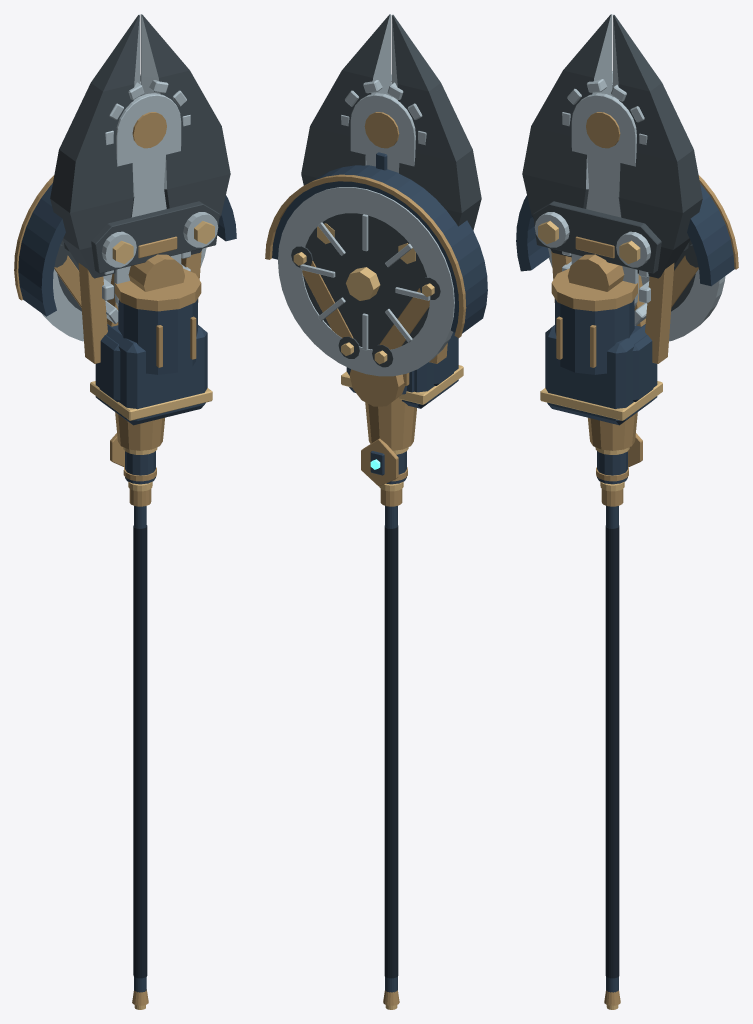
File: staff_parts.glb
3 views of the same model, side by side, from view 1: azimuth 30°, elevation 25°; view 2: azimuth 150°, elevation 25°; view 3: azimuth 330°, elevation 25° (orthographic).
Parts seen in each view (by area): view 1: cutter_jaw_l, cutter_jaw_r, cutter_saddle, grip_sleeve, grinder_motor, saw_motor, saw_guide_back, grinder_guard, grinder_disc, grinder_axle, core_receiver, ornament_mount (+3 smaller); view 2: grinder_disc, cutter_jaw_l, grinder_guard, grip_sleeve, cutter_jaw_r, saw_guide_front, core_receiver, cutter_link_r, cutter_link_l, saw_motor, grinder_mount, seal_plate (+3 smaller); view 3: cutter_jaw_r, cutter_jaw_l, cutter_saddle, grip_sleeve, grinder_motor, saw_motor, saw_guide_back, grinder_guard, grinder_disc, grinder_axle, core_receiver, ornament_mount (+3 smaller).
Boxes of the visible parts, bbox=[...] form: cutter_jaw_l: bbox=[50, 14, 139, 278]; cutter_jaw_r: bbox=[140, 14, 230, 254]; cutter_saddle: bbox=[64, 201, 219, 401]; grip_sleeve: bbox=[133, 525, 147, 978]; grinder_motor: bbox=[115, 268, 201, 374]; saw_motor: bbox=[90, 324, 212, 425]; saw_guide_back: bbox=[114, 93, 181, 307]; grinder_guard: bbox=[14, 175, 236, 316]; grinder_disc: bbox=[42, 240, 206, 341]; grinder_axle: bbox=[128, 254, 184, 291]; core_receiver: bbox=[115, 412, 164, 450]; ornament_mount: bbox=[123, 447, 157, 484]; grinder_disc: bbox=[278, 187, 454, 376]; cutter_jaw_l: bbox=[391, 14, 481, 263]; grinder_guard: bbox=[265, 165, 487, 337]; grip_sleeve: bbox=[384, 525, 398, 978]; cutter_jaw_r: bbox=[301, 14, 390, 244]; saw_guide_front: bbox=[350, 93, 415, 172]; core_receiver: bbox=[365, 386, 416, 450]; cutter_link_r: bbox=[291, 246, 359, 358]; cutter_link_l: bbox=[372, 277, 440, 367]; saw_motor: bbox=[341, 332, 463, 408]; grinder_mount: bbox=[349, 369, 414, 406]; seal_plate: bbox=[361, 438, 398, 486]; cutter_jaw_r: bbox=[613, 14, 702, 278]; cutter_jaw_l: bbox=[522, 14, 612, 257]; cutter_saddle: bbox=[533, 201, 688, 401]; grip_sleeve: bbox=[605, 525, 619, 978]; grinder_motor: bbox=[551, 268, 637, 374]; saw_motor: bbox=[540, 324, 662, 425]; saw_guide_back: bbox=[571, 93, 638, 307]; grinder_guard: bbox=[516, 175, 738, 286]; grinder_disc: bbox=[548, 240, 725, 341]; grinder_axle: bbox=[568, 254, 624, 291]; core_receiver: bbox=[588, 412, 637, 450]; ornament_mount: bbox=[595, 447, 629, 484].
Bounding box in the file's own units: 0.3559 × 1.7 × 0.2205.
